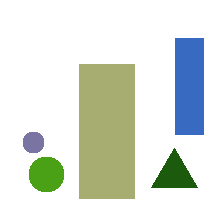circle: (29, 157, 63, 191), (23, 132, 43, 152)
rectangle: (79, 64, 134, 198), (175, 38, 203, 134)
triangle: (151, 148, 197, 187)
